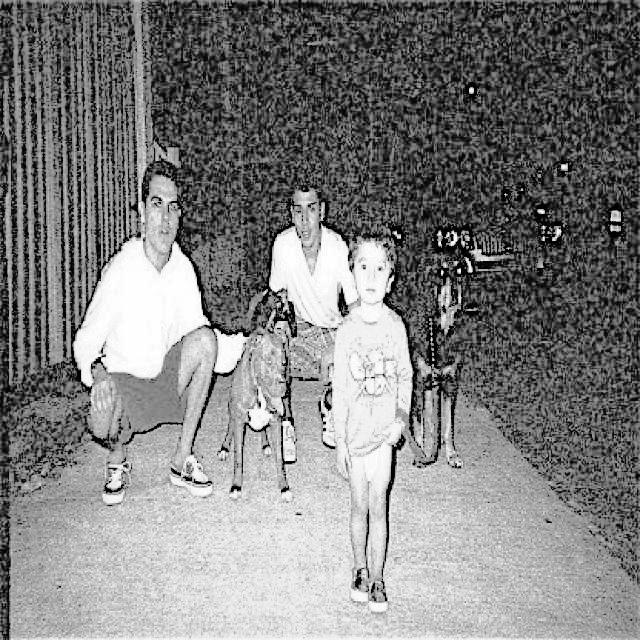Dog: (409, 243, 472, 477), (219, 320, 296, 511)
Person: (71, 151, 248, 513), (332, 218, 414, 615), (265, 174, 358, 465)
